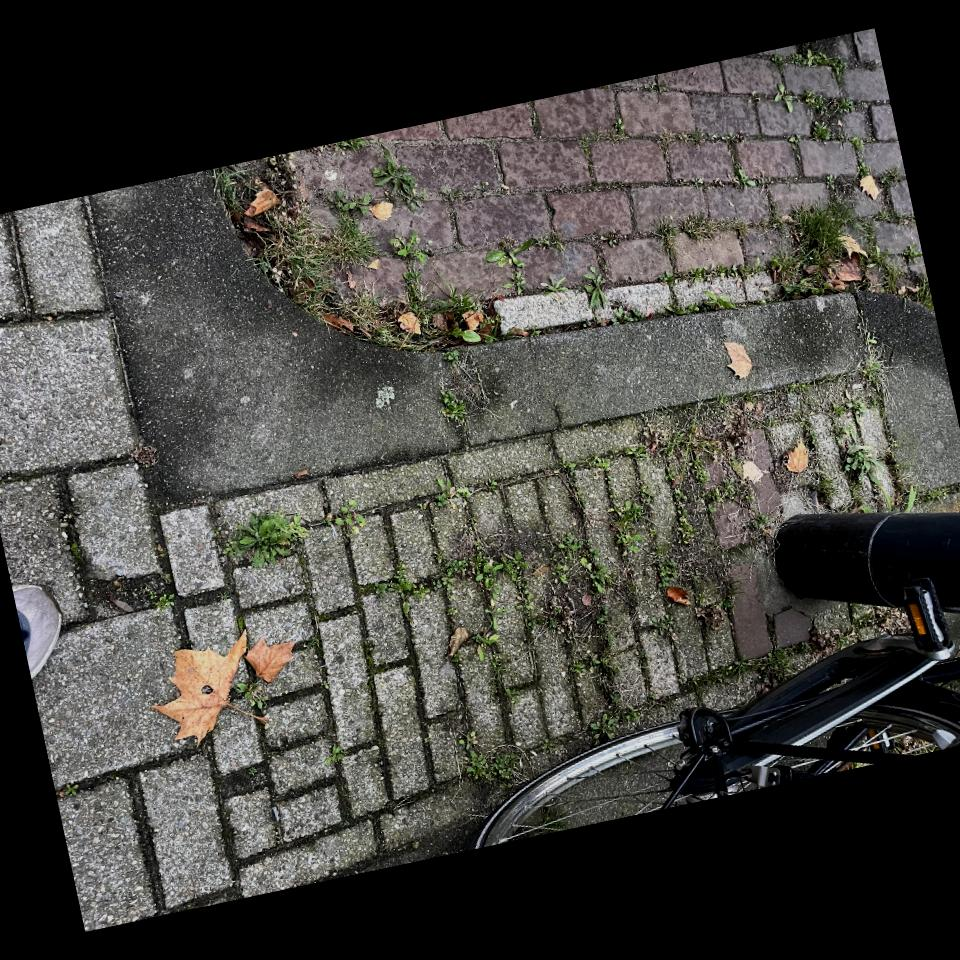weed: (249, 206, 500, 350), (373, 550, 528, 642), (772, 201, 852, 295), (224, 511, 308, 568), (553, 533, 609, 599), (460, 732, 525, 786), (372, 147, 423, 209), (800, 90, 854, 142), (784, 50, 846, 95), (742, 645, 808, 685), (213, 165, 244, 212), (486, 239, 535, 268), (327, 499, 365, 536), (673, 488, 698, 544), (706, 478, 742, 512), (328, 191, 372, 216), (591, 714, 618, 743), (774, 83, 795, 113), (333, 137, 368, 153), (694, 456, 709, 484), (620, 707, 640, 723), (668, 472, 679, 480)
